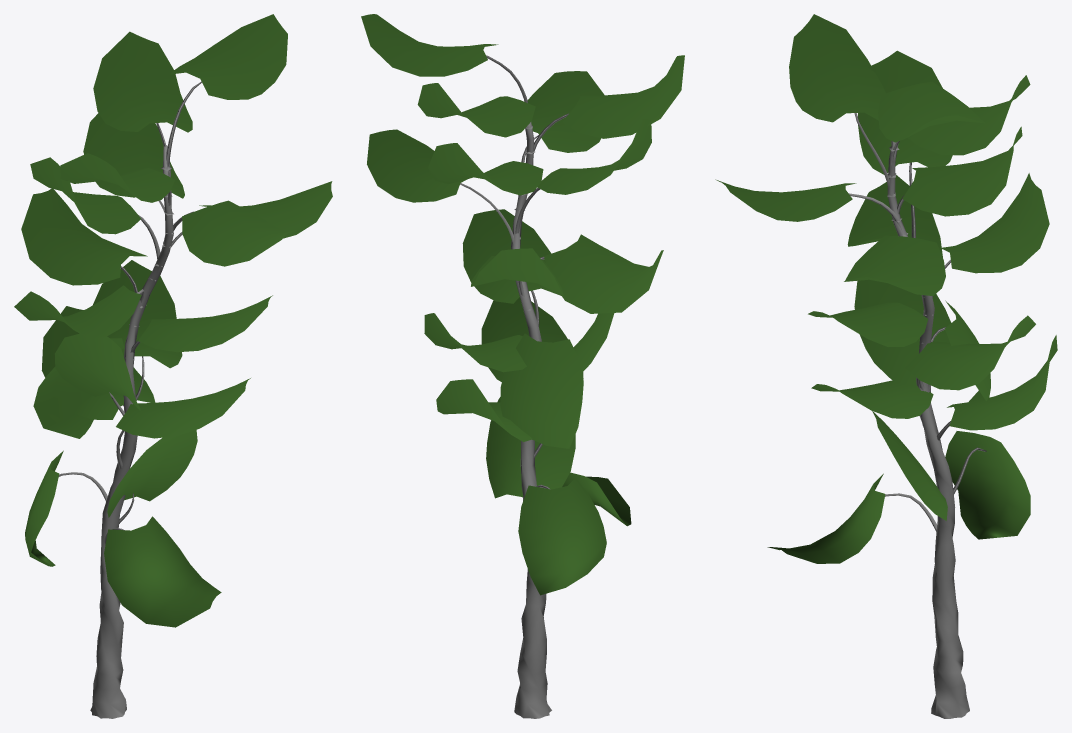
The model's file is SM_plant_tropical_large_04.fbx.
3 renders of one model, left to right at view 1: azimuth 30°, elevation 25°; view 2: azimuth 150°, elevation 25°; view 3: azimuth 270°, elevation 25°, orthographic. The views are drawn at different scales.
Visible parts, largest first — view 1: tree011; view 2: tree011; view 3: tree011.
Boxes of the visible parts, x1,y1,x2,y2 form: tree011: (14, 14, 332, 718); tree011: (361, 14, 684, 718); tree011: (715, 14, 1057, 718).
Size of the model in its own units: 54.6 by 114 by 52.37.
